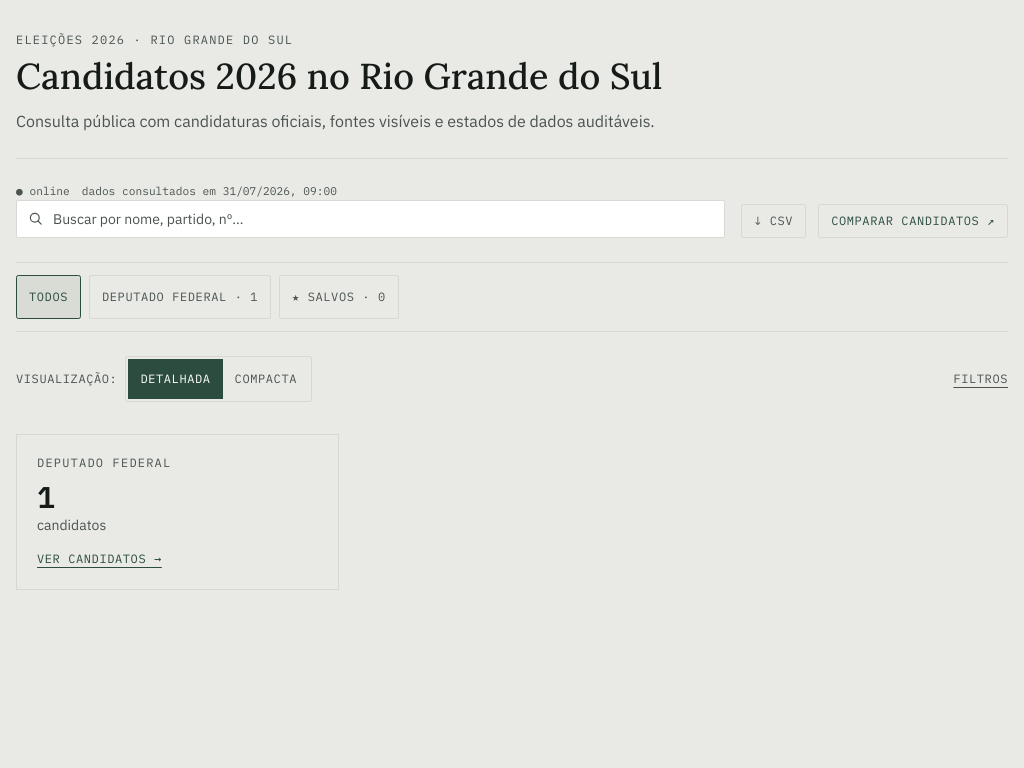
Test: HomePage estados honestos H5.2 › troca para compacta e salva somente o ID no navegador
Click the button "Deputado Federal · 1".
click(180, 297)  # box [89,275,271,319]
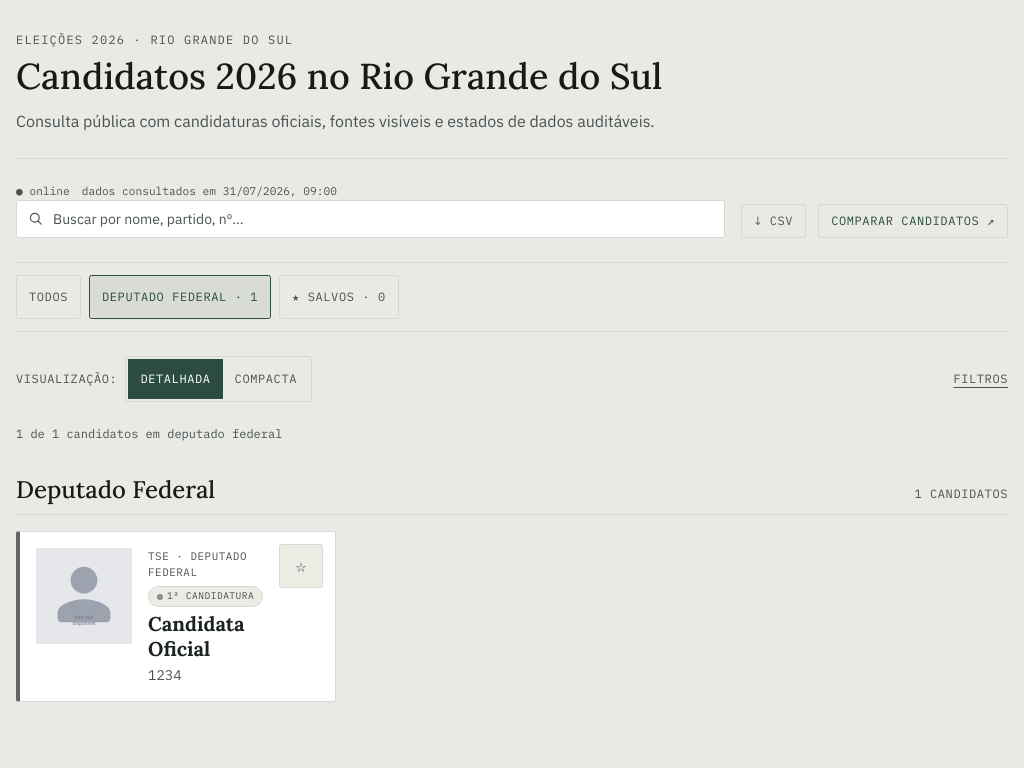
Click the button "Compacta".
click(266, 379)  # box [223,359,309,399]
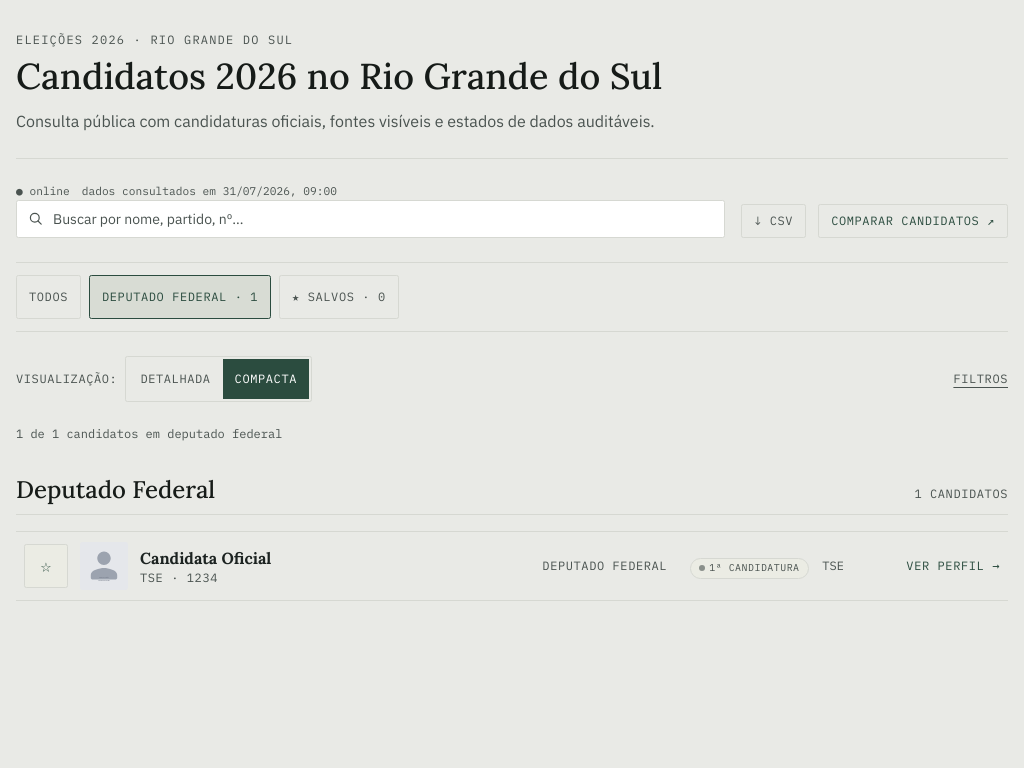
Check: the button "Compacta" is pressed, box [223,359,309,399]
Click the button named "salvar candidata oficial neste navegador".
click(46, 566)  # box [24,544,68,588]
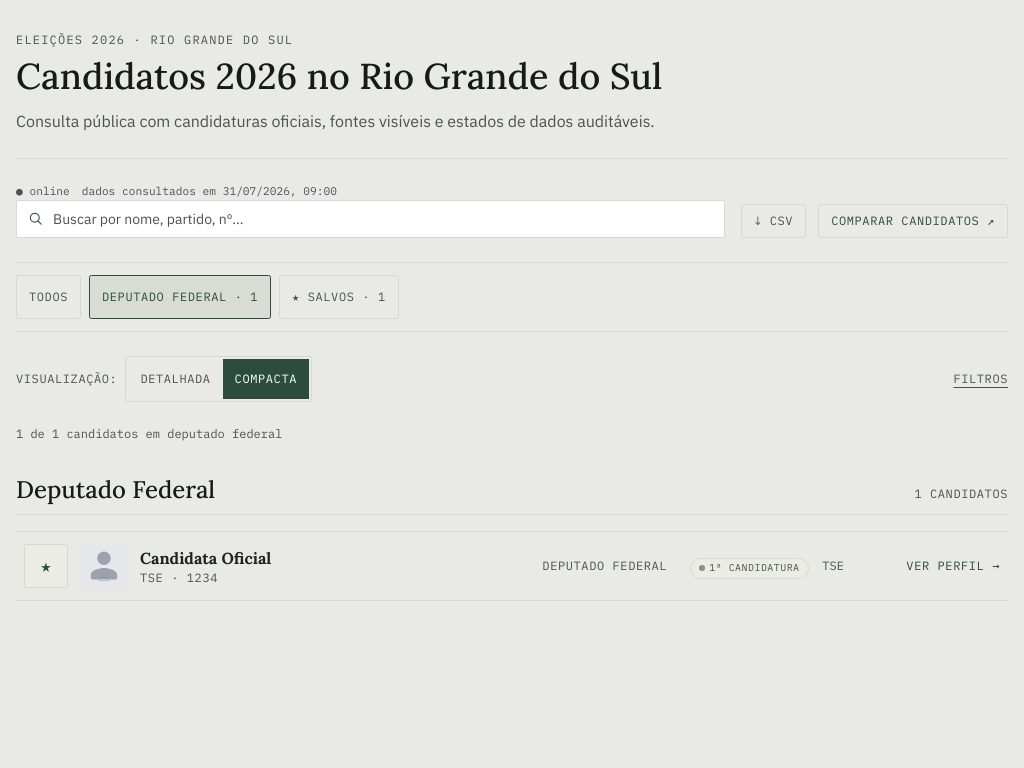
Check: the button named "remover candidata oficial dos salvos" is shown, box [24,544,68,588]
